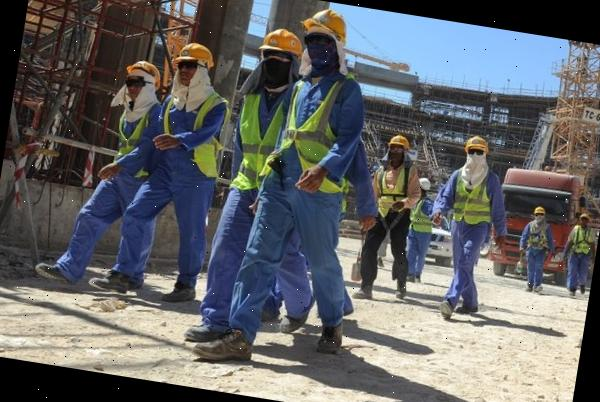helmet: (299, 4, 351, 42), (258, 25, 304, 60), (171, 38, 217, 71), (124, 57, 162, 90), (464, 133, 491, 154), (387, 132, 412, 150), (418, 175, 433, 193), (533, 206, 546, 218), (578, 212, 590, 222)
wear: (268, 70, 360, 196), (228, 88, 290, 195), (152, 93, 226, 182), (106, 100, 160, 182), (445, 166, 496, 231), (371, 162, 414, 219), (409, 195, 436, 234), (522, 222, 548, 251), (570, 226, 594, 256)
